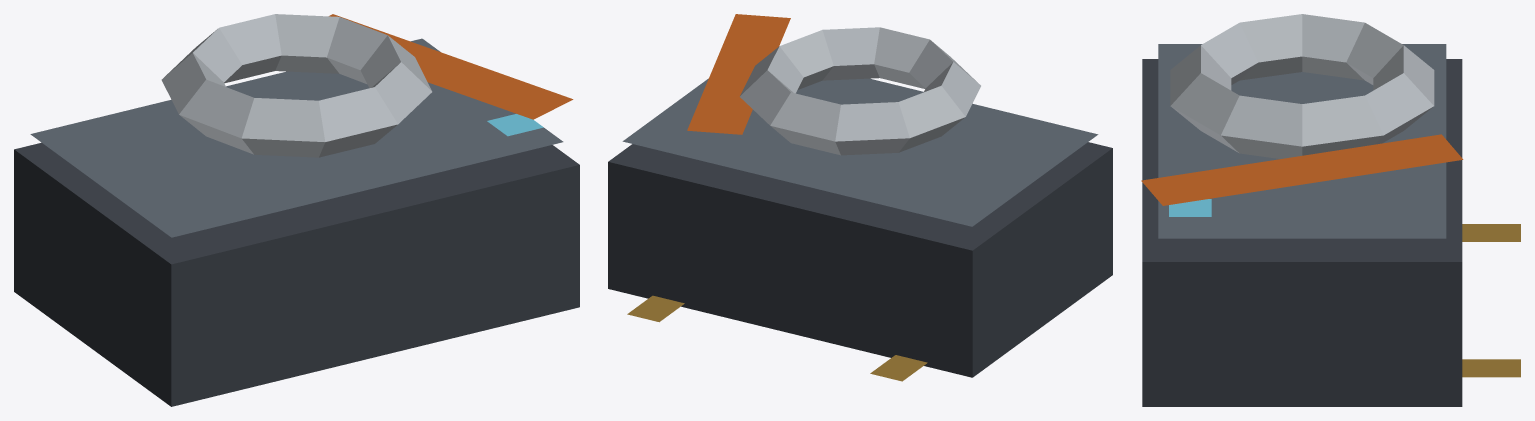
Rendered from droid-mechanic.lod.glb.
The picture shows the model from 3 angles, left to right: view 1: azimuth 30°, elevation 25°; view 2: azimuth 150°, elevation 25°; view 3: azimuth 270°, elevation 25°; orthographic projection. The views are drawn at different scales.
Parts seen in each view (by area): view 1: m; view 2: m; view 3: m.
Part boxes in pixels (box(x1,y1,x2,y2)): m: box(14, 14, 579, 406); m: box(608, 14, 1112, 381); m: box(1141, 14, 1520, 406).
Size of the model in its own units: 0.0988 by 0.0609 by 0.0774.
